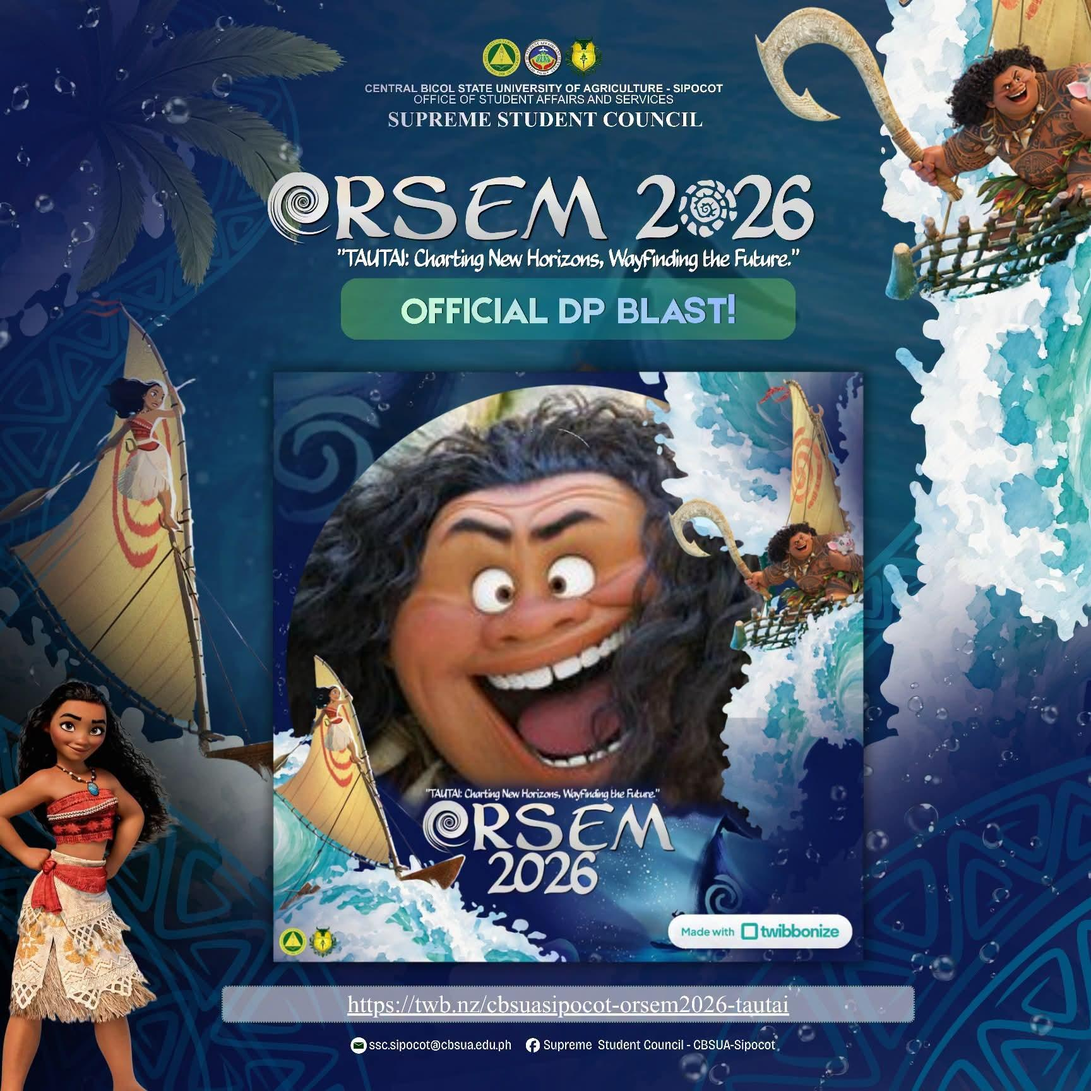embellishment: (0, 680, 176, 1090), (349, 1034, 368, 1056), (523, 1035, 542, 1056)
logo: (563, 34, 608, 76), (480, 36, 523, 79), (524, 36, 563, 78)
text: (261, 163, 824, 245), (409, 781, 669, 908), (361, 80, 727, 130), (335, 244, 805, 272), (343, 991, 796, 1020), (398, 293, 742, 330), (541, 1038, 781, 1052), (368, 1039, 515, 1052)
underlay: (342, 277, 796, 340), (222, 985, 917, 1022)
